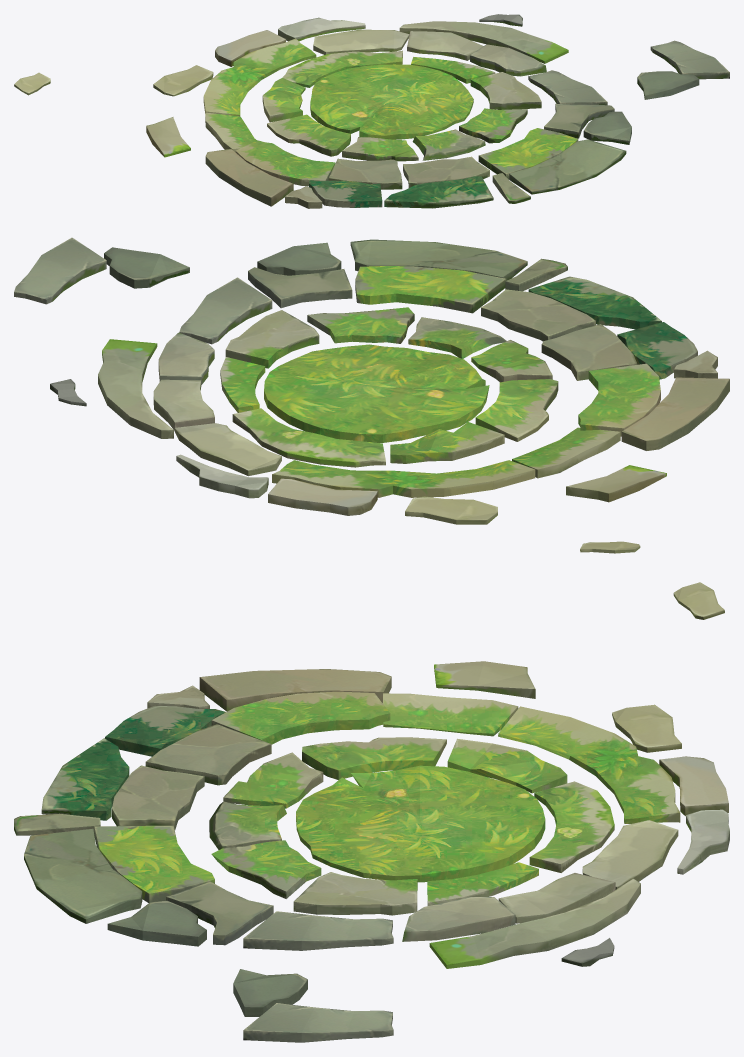
File: dizuo.FBX
The picture shows the model from 3 angles, top to bottom: view 1: azimuth 30°, elevation 25°; view 2: azimuth 150°, elevation 25°; view 3: azimuth 270°, elevation 25°; orthographic projection. The views are drawn at different scales.
Parts seen in each view (by area): view 1: dizuo; view 2: dizuo; view 3: dizuo.
Part boxes in pixels (x1,y1,x2,y2): dizuo: [14, 14, 729, 208]; dizuo: [14, 237, 729, 553]; dizuo: [14, 582, 729, 1042].
Size of the model in its own units: 1005 by 43.27 by 715.
